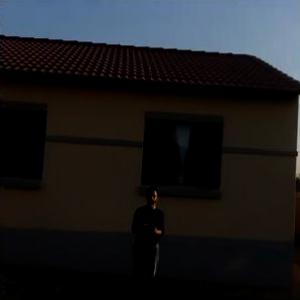follow: (123, 178, 166, 299)
